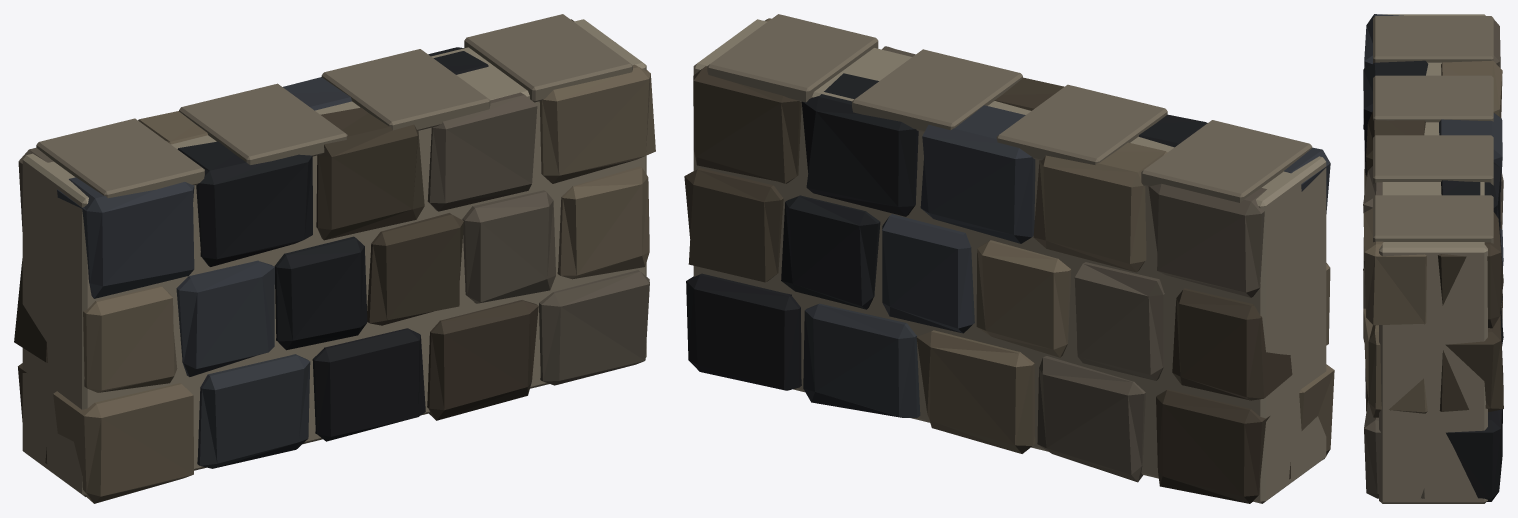
Rendered from mod_rubble_stone_course_2x1m.glb.
3 views of the same model, side by side, from view 1: azimuth 30°, elevation 25°; view 2: azimuth 150°, elevation 25°; view 3: azimuth 270°, elevation 25° (orthographic). The views are drawn at different scales.
Parts seen in each view (by area): view 1: Mod_Rubble_Stone_Course_2x1m; view 2: Mod_Rubble_Stone_Course_2x1m; view 3: Mod_Rubble_Stone_Course_2x1m.
Part boxes in pixels (bbox=[...]): Mod_Rubble_Stone_Course_2x1m: bbox=[14, 14, 655, 503]; Mod_Rubble_Stone_Course_2x1m: bbox=[684, 14, 1334, 503]; Mod_Rubble_Stone_Course_2x1m: bbox=[1363, 14, 1503, 503].
Size of the model in its own units: 1.93 by 0.9926 by 0.4781.
